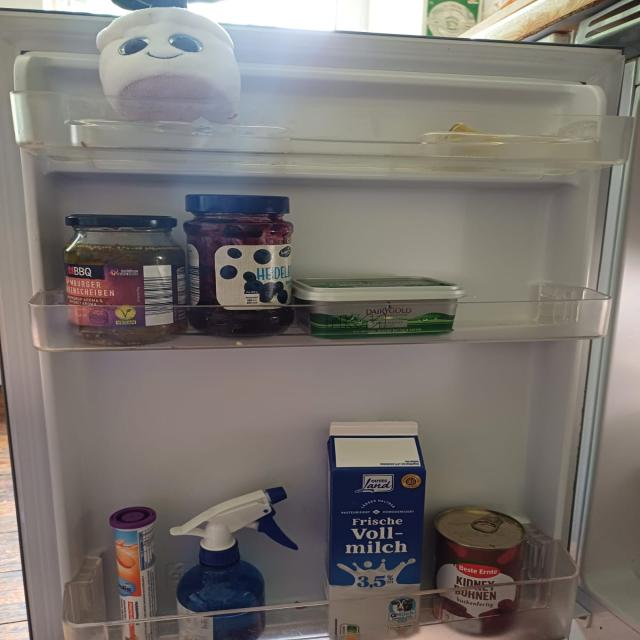Beans: (437, 502, 522, 628)
Butter: (299, 272, 465, 332)
Jam: (184, 187, 293, 322)
Milk: (322, 424, 423, 633)
Pickle: (53, 206, 190, 339)
Soft toy: (90, 0, 240, 123)
Spray: (178, 481, 288, 637)
Vitamin C: (103, 503, 167, 640)
